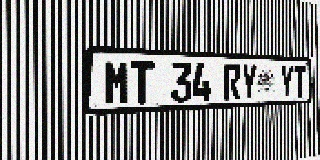3: (171, 62, 192, 103)
4: (192, 63, 211, 102)
M: (104, 60, 130, 106)
R: (224, 64, 241, 100)
T: (130, 61, 154, 105), (293, 66, 306, 97)
Y: (241, 64, 257, 100), (280, 65, 293, 98)
